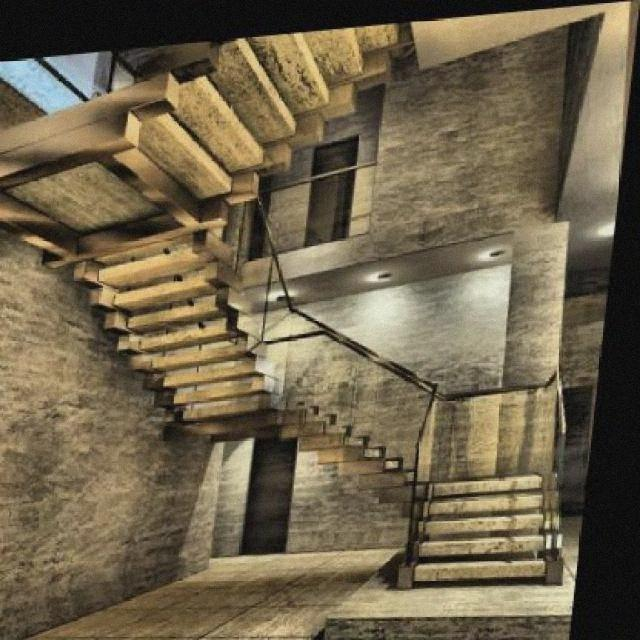stair: (416, 458, 582, 582)
